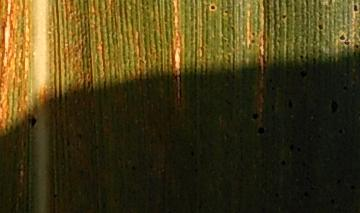tarspot: (23, 111, 40, 130), (334, 121, 350, 139), (328, 96, 341, 116), (313, 19, 327, 34), (255, 124, 271, 137), (249, 109, 261, 123), (73, 130, 86, 142), (278, 156, 289, 170), (350, 1, 360, 16), (60, 137, 73, 148), (126, 162, 138, 173), (285, 97, 295, 110), (298, 67, 308, 79), (336, 31, 346, 42), (208, 1, 217, 13), (189, 146, 196, 160), (295, 143, 303, 155), (287, 142, 295, 153), (354, 40, 360, 50)
